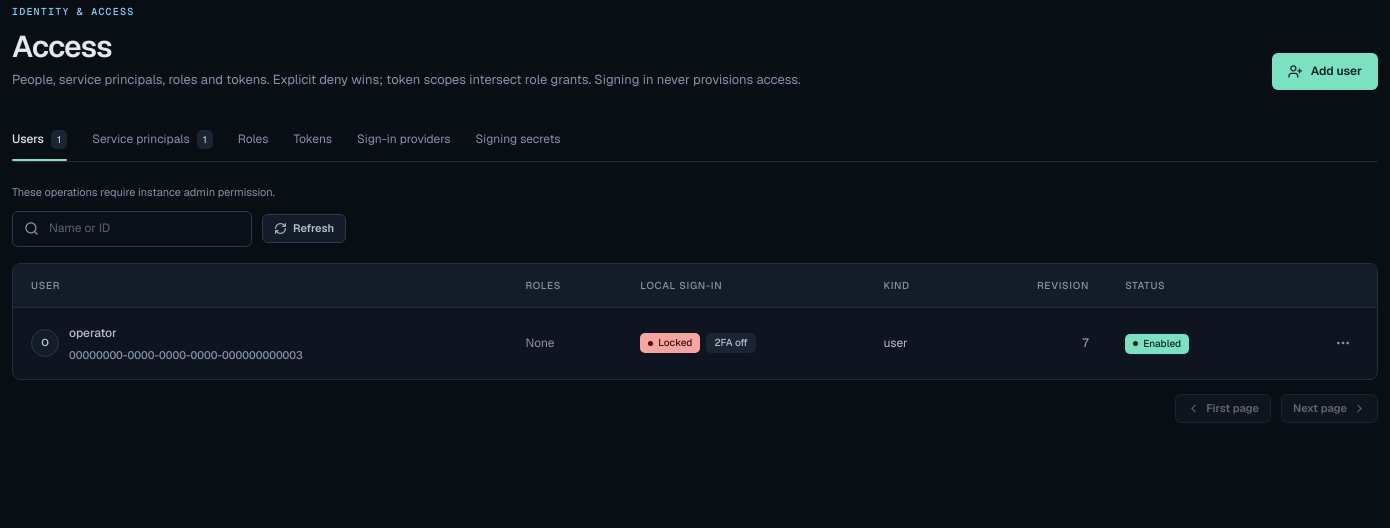
Test: does not offer enrolment unless the setting is on
Check: the text "2FA off" is shown, box [706,333,756,353]
Click the button named "Actions for operator". click: (1343, 343)
box: [1327,327,1359,359]
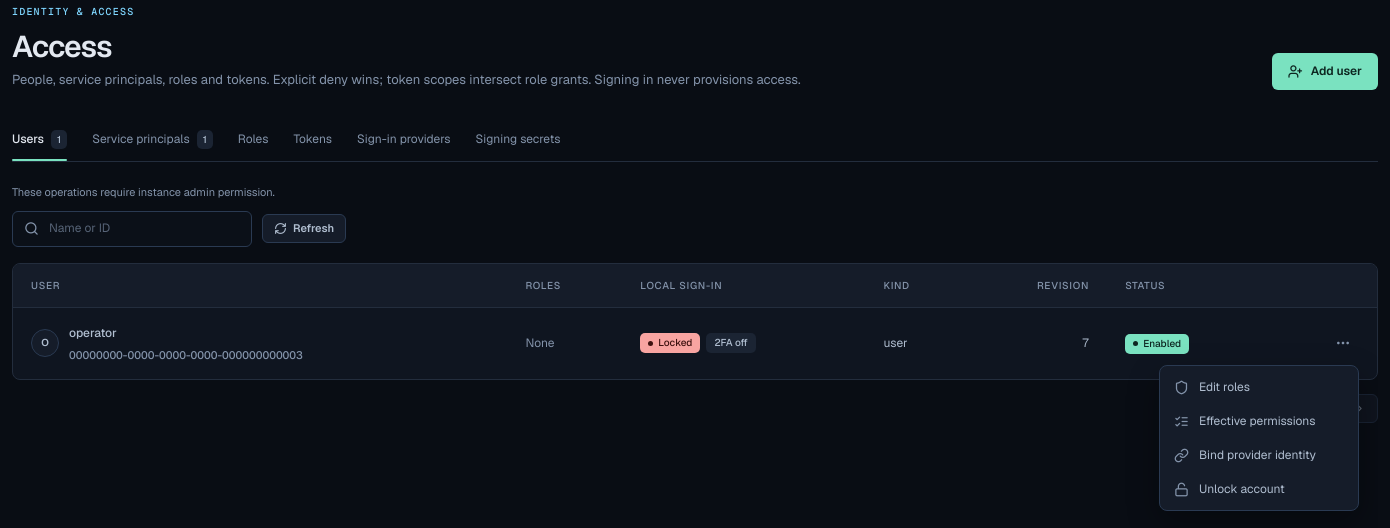
Check: the menu item "Edit roles" is shown, box [1164,370,1354,404]
